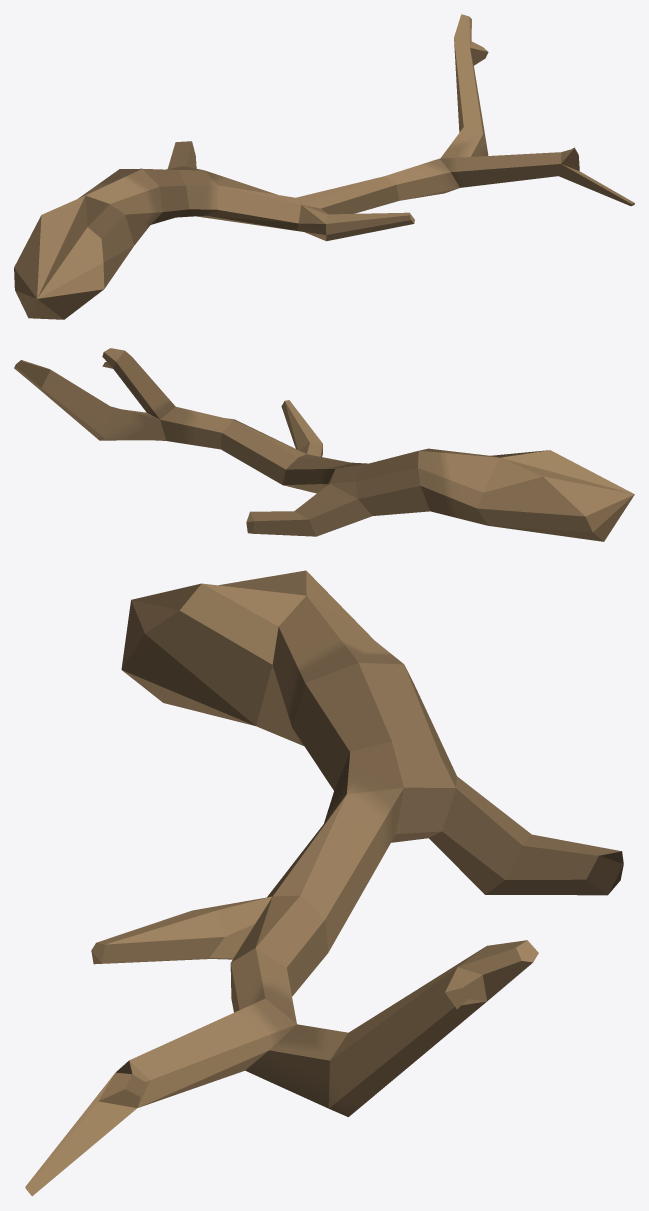
Rendered from SM_Env_DriftWood_03.glb.
3 renders of one model, top to bottom at view 1: azimuth 30°, elevation 25°; view 2: azimuth 150°, elevation 25°; view 3: azimuth 270°, elevation 25°, orthographic. The views are drawn at different scales.
Parts seen in each view (by area): view 1: SM_Env_DriftWood_03; view 2: SM_Env_DriftWood_03; view 3: SM_Env_DriftWood_03.
Part boxes in pixels (x1,y1,x2,y2): SM_Env_DriftWood_03: [14, 14, 634, 319]; SM_Env_DriftWood_03: [14, 348, 634, 541]; SM_Env_DriftWood_03: [25, 570, 623, 1196].
Bounding box in the file's own units: 3.27 × 0.6498 × 1.52.
Materials: 1 (1 with a texture image).
